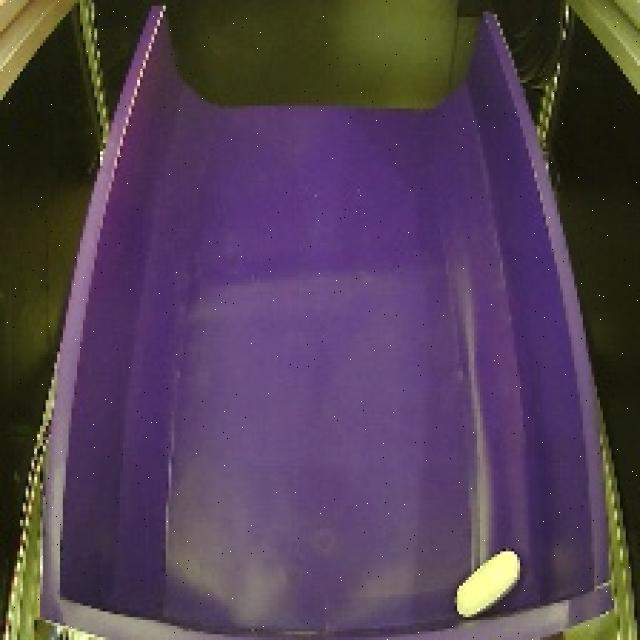small: (448, 536, 524, 622)
